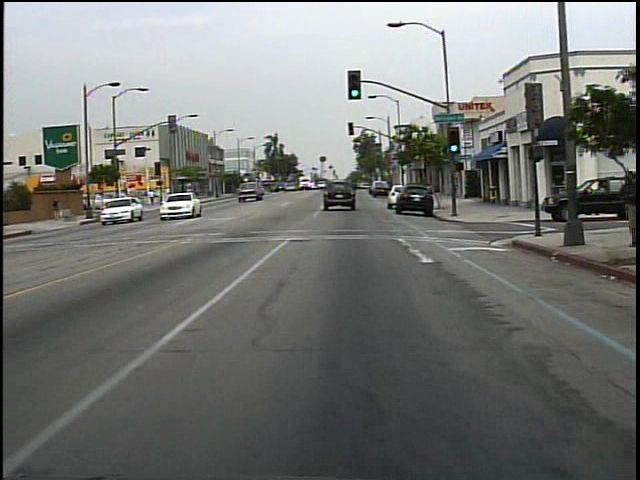person: (610, 165, 636, 250), (49, 195, 68, 223), (147, 185, 163, 210)
